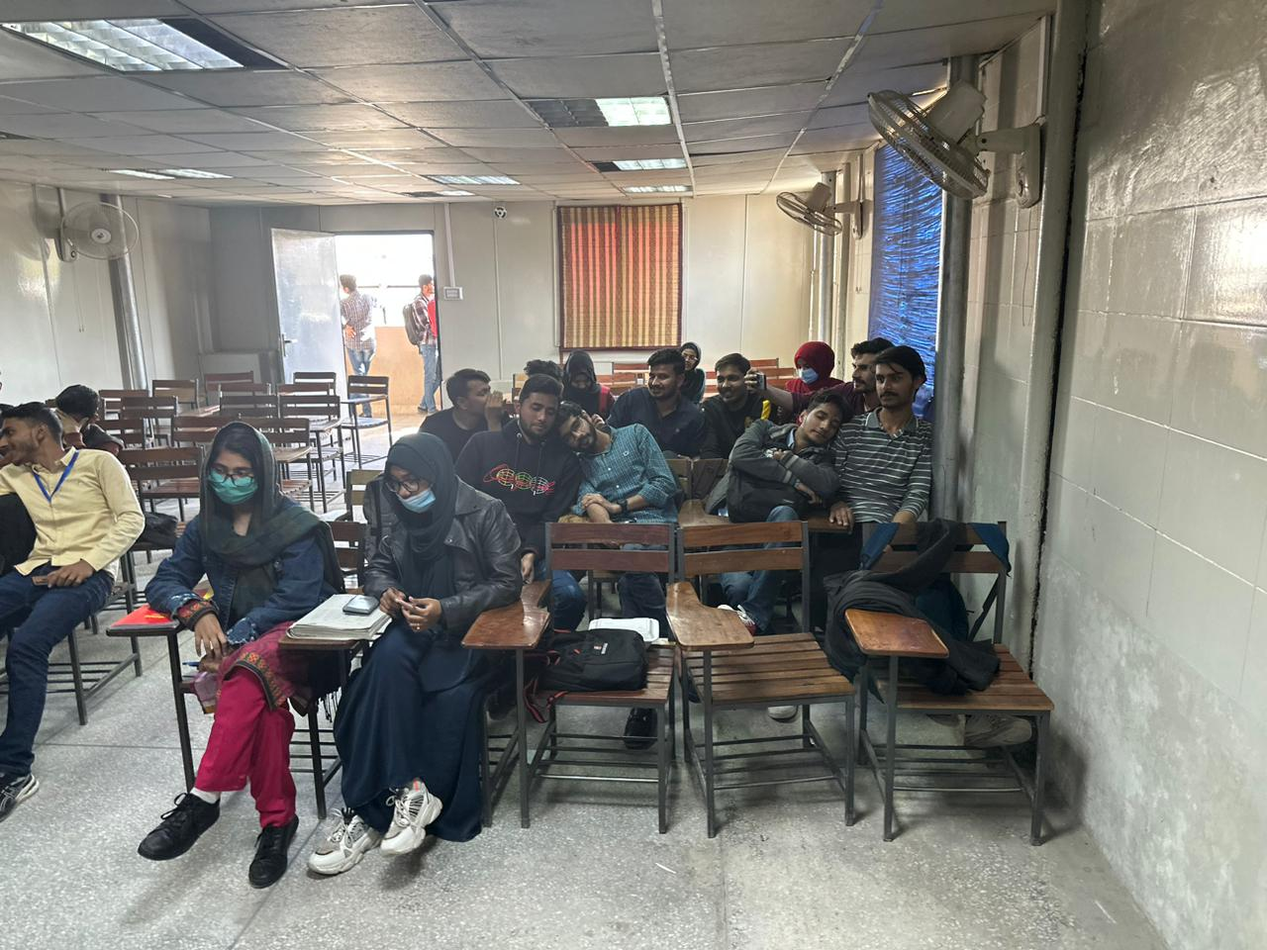non-cheating: (197, 419, 276, 510), (382, 431, 457, 515), (876, 345, 927, 410), (792, 341, 836, 385), (645, 350, 683, 400), (564, 349, 597, 394), (680, 340, 703, 374)
phone: (342, 591, 383, 618), (744, 367, 770, 397)
